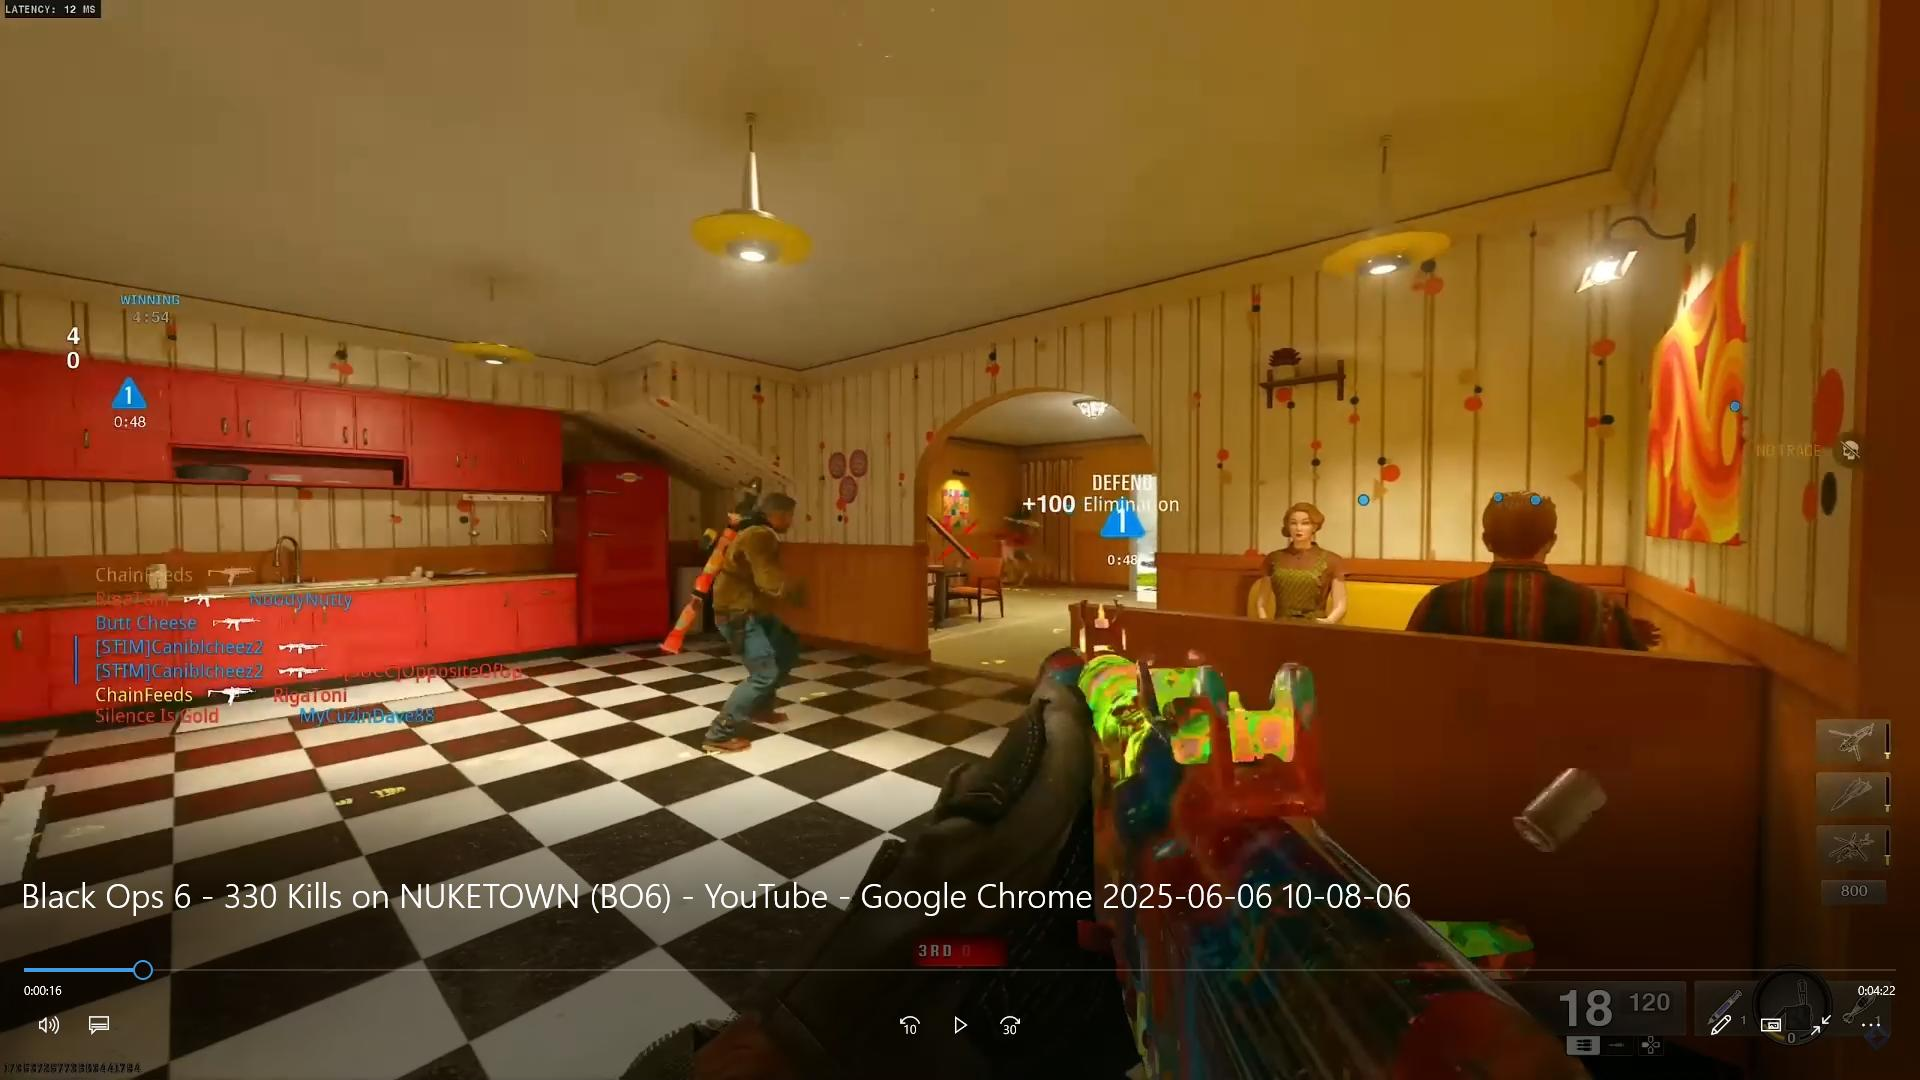Enemy: (691, 465, 815, 748)
